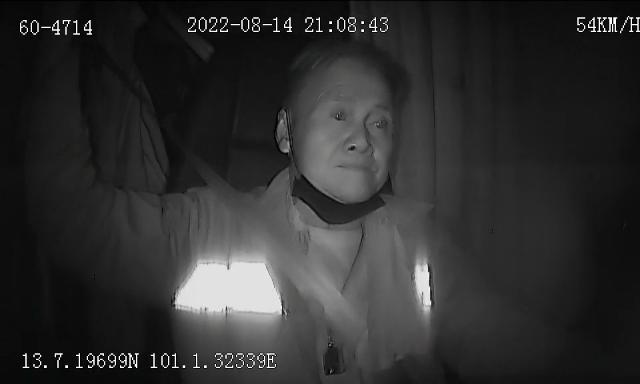SafeDriving: (362, 106, 394, 138), (324, 100, 355, 130)
Seatbelt: (202, 170, 368, 352)
